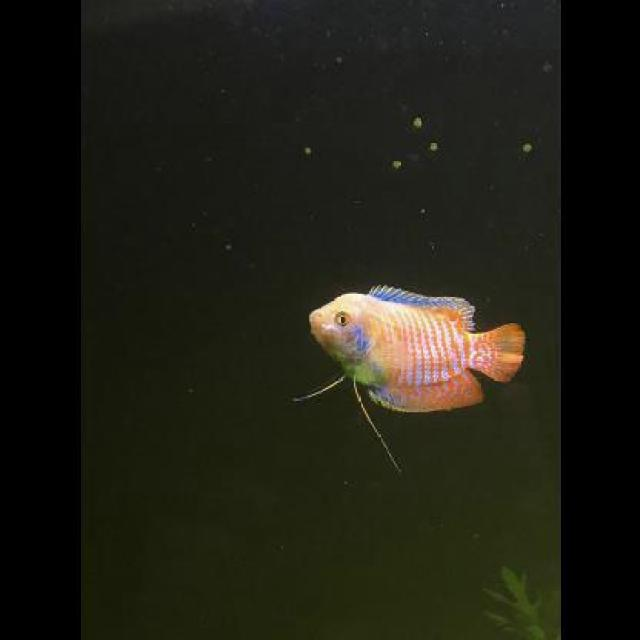Gourami: (310, 272, 530, 417)
